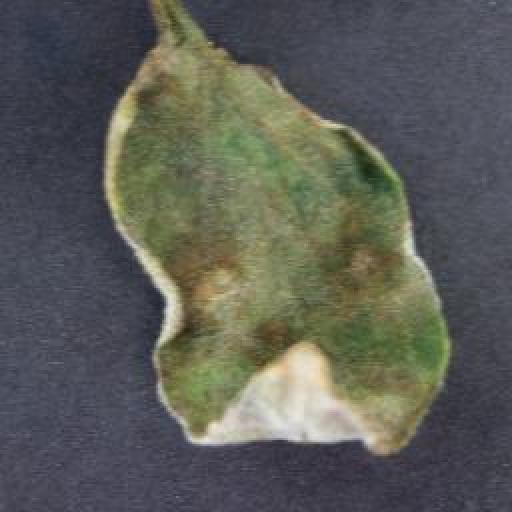disease_tomato: (98, 36, 452, 462)
